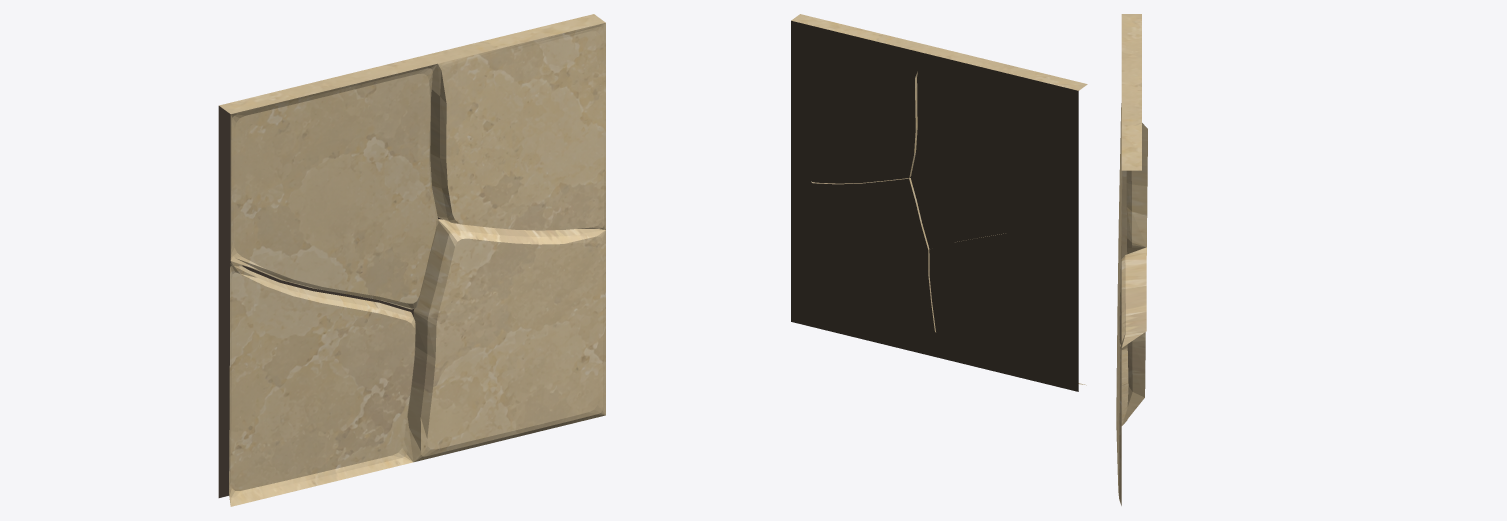
File: ground_square_edge_10.glb
3 renders of one model, left to right at view 1: azimuth 30°, elevation 25°; view 2: azimuth 150°, elevation 25°; view 3: azimuth 270°, elevation 25°, orthographic. The views are drawn at different scales.
Parts seen in each view (by area): view 1: GroundSquareEdge10_Body; view 2: GroundSquareEdge10_Body; view 3: GroundSquareEdge10_Body.
Part boxes in pixels (x1,y1,x2,y2): GroundSquareEdge10_Body: [218, 14, 605, 506]; GroundSquareEdge10_Body: [791, 14, 1087, 391]; GroundSquareEdge10_Body: [1116, 14, 1147, 505].
Size of the model in its own units: 1 by 1 by 1.01.
6 materials, 5 textured.
